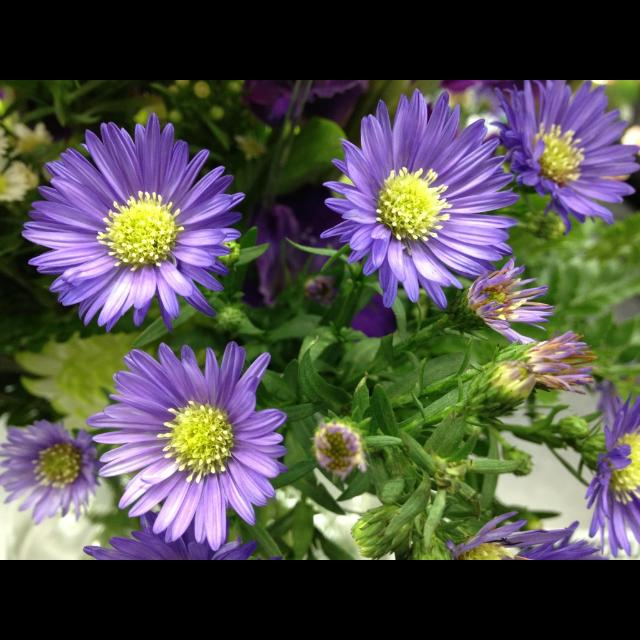Flower: (21, 111, 247, 332), (318, 88, 522, 306), (82, 338, 288, 548), (489, 80, 638, 236), (0, 420, 102, 522), (582, 392, 640, 558), (86, 512, 282, 560), (453, 508, 613, 560), (255, 206, 337, 306), (466, 259, 552, 343), (244, 80, 356, 120)
